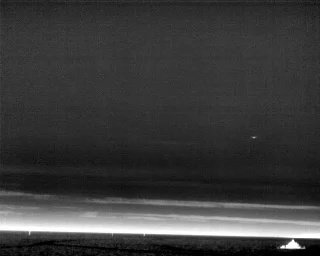BIRD: (250, 133, 258, 142)
